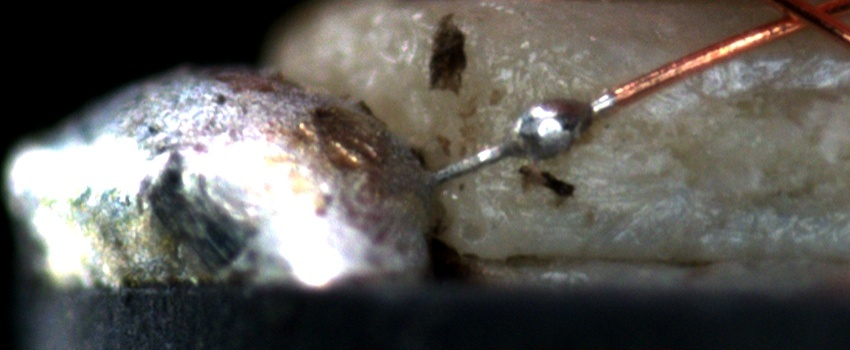CL: (755, 0, 840, 41)
DL: (625, 43, 850, 76), (498, 179, 682, 214)
TB: (511, 90, 593, 160)
TS: (428, 89, 617, 182)
TTCW: (432, 72, 652, 186)
